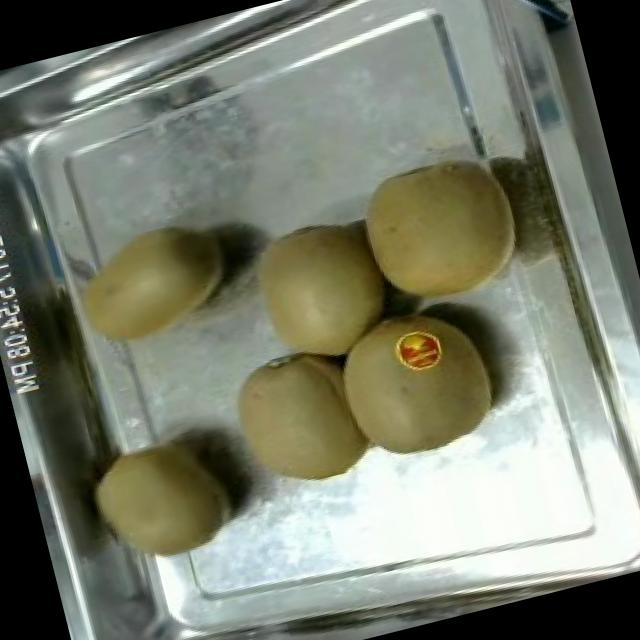Fruit: (337, 132, 542, 331), (318, 294, 514, 478), (52, 200, 256, 362), (232, 200, 409, 384), (71, 412, 258, 580), (211, 333, 384, 508), (605, 450, 640, 572)
